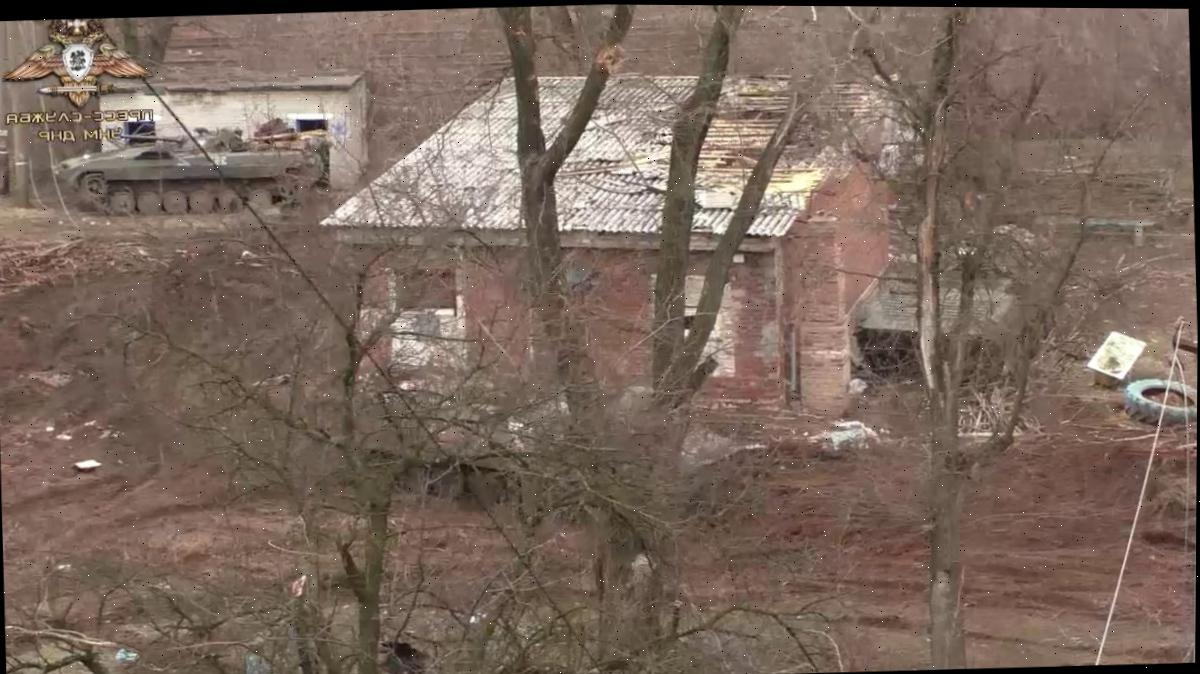tank: (261, 341, 588, 536), (852, 237, 1044, 388), (50, 122, 332, 220)
